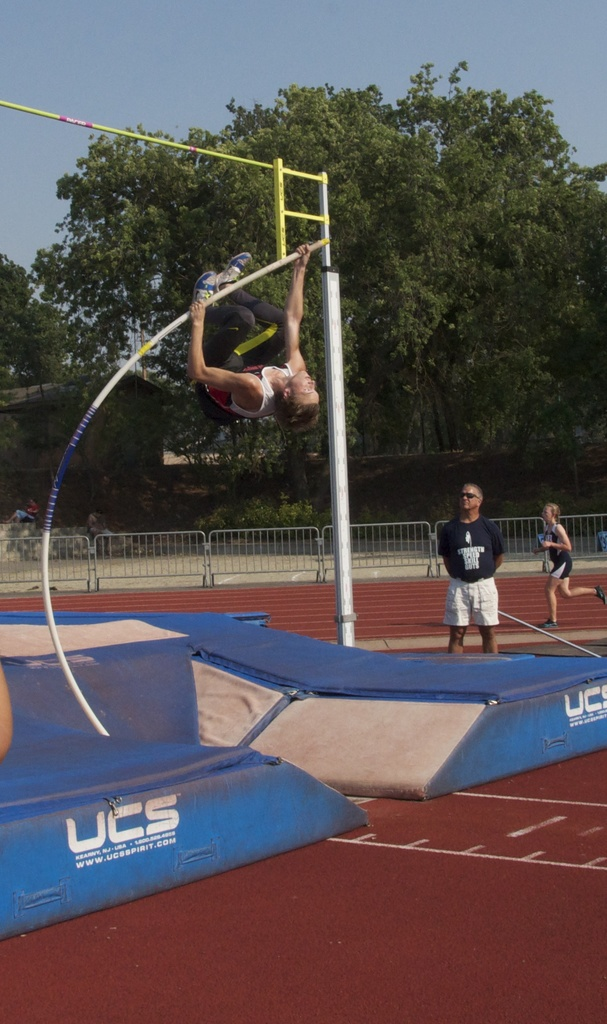person: (185, 240, 322, 426)
